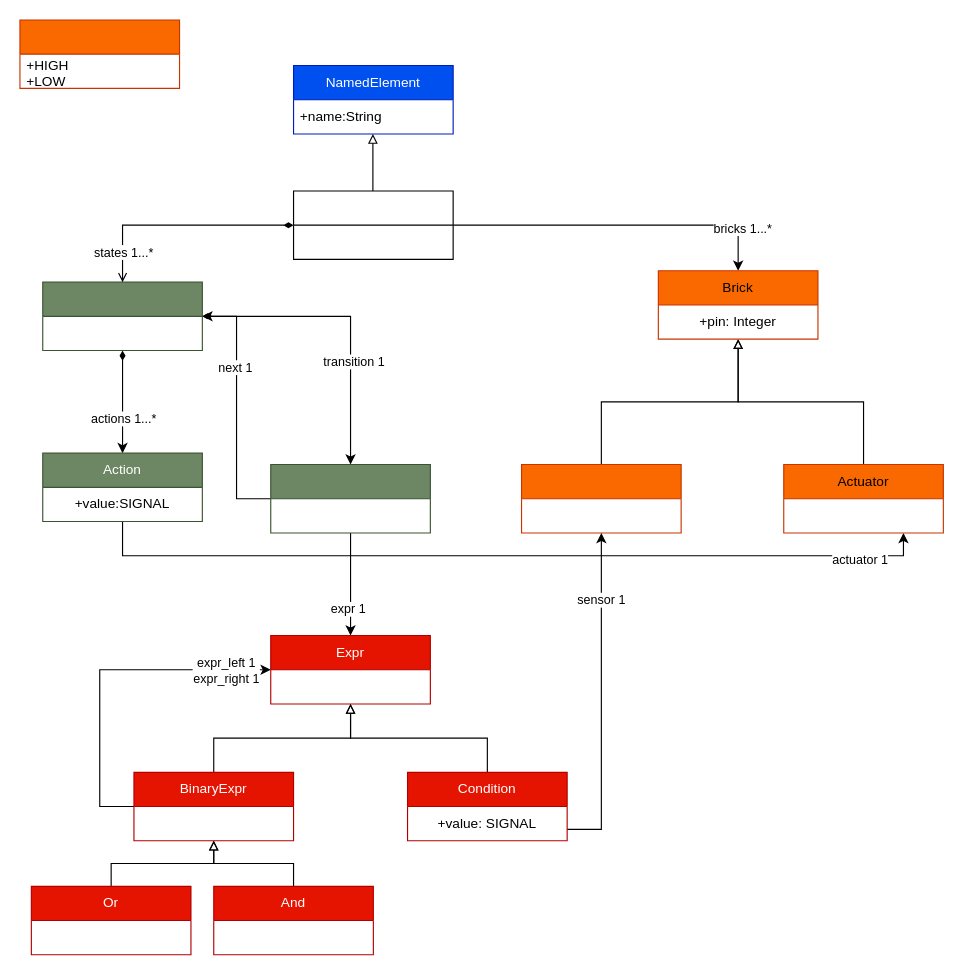
Image size: 963x975. Some labels were removed from this diagram. Here are the shapes that lost their labels. From the top down, the box of each, then its label:
(19, 19, 180, 88): <<Enumeration>> Signal
(292, 190, 453, 259): App
(42, 281, 202, 351): State
(270, 463, 430, 533): Transition
(520, 463, 681, 533): Sensor
